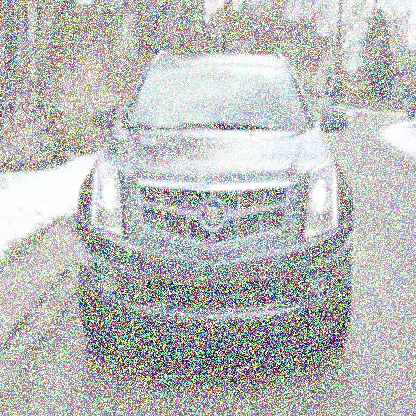Vehicle: (68, 47, 357, 374)
